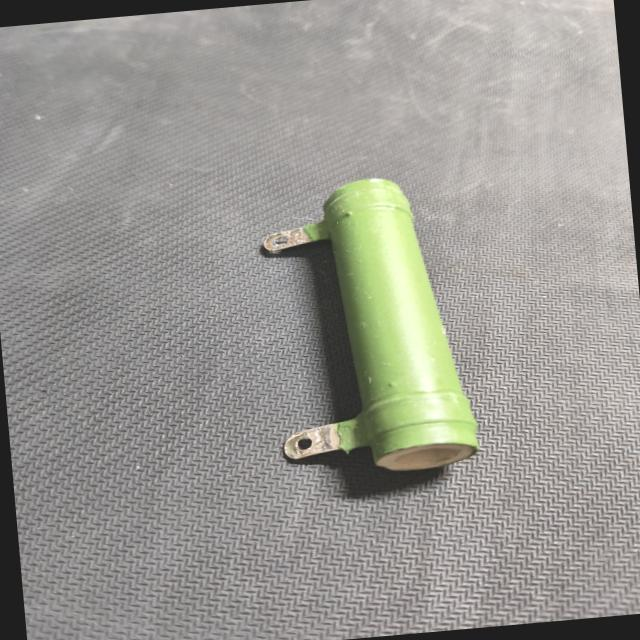resistor: (238, 163, 492, 502)
